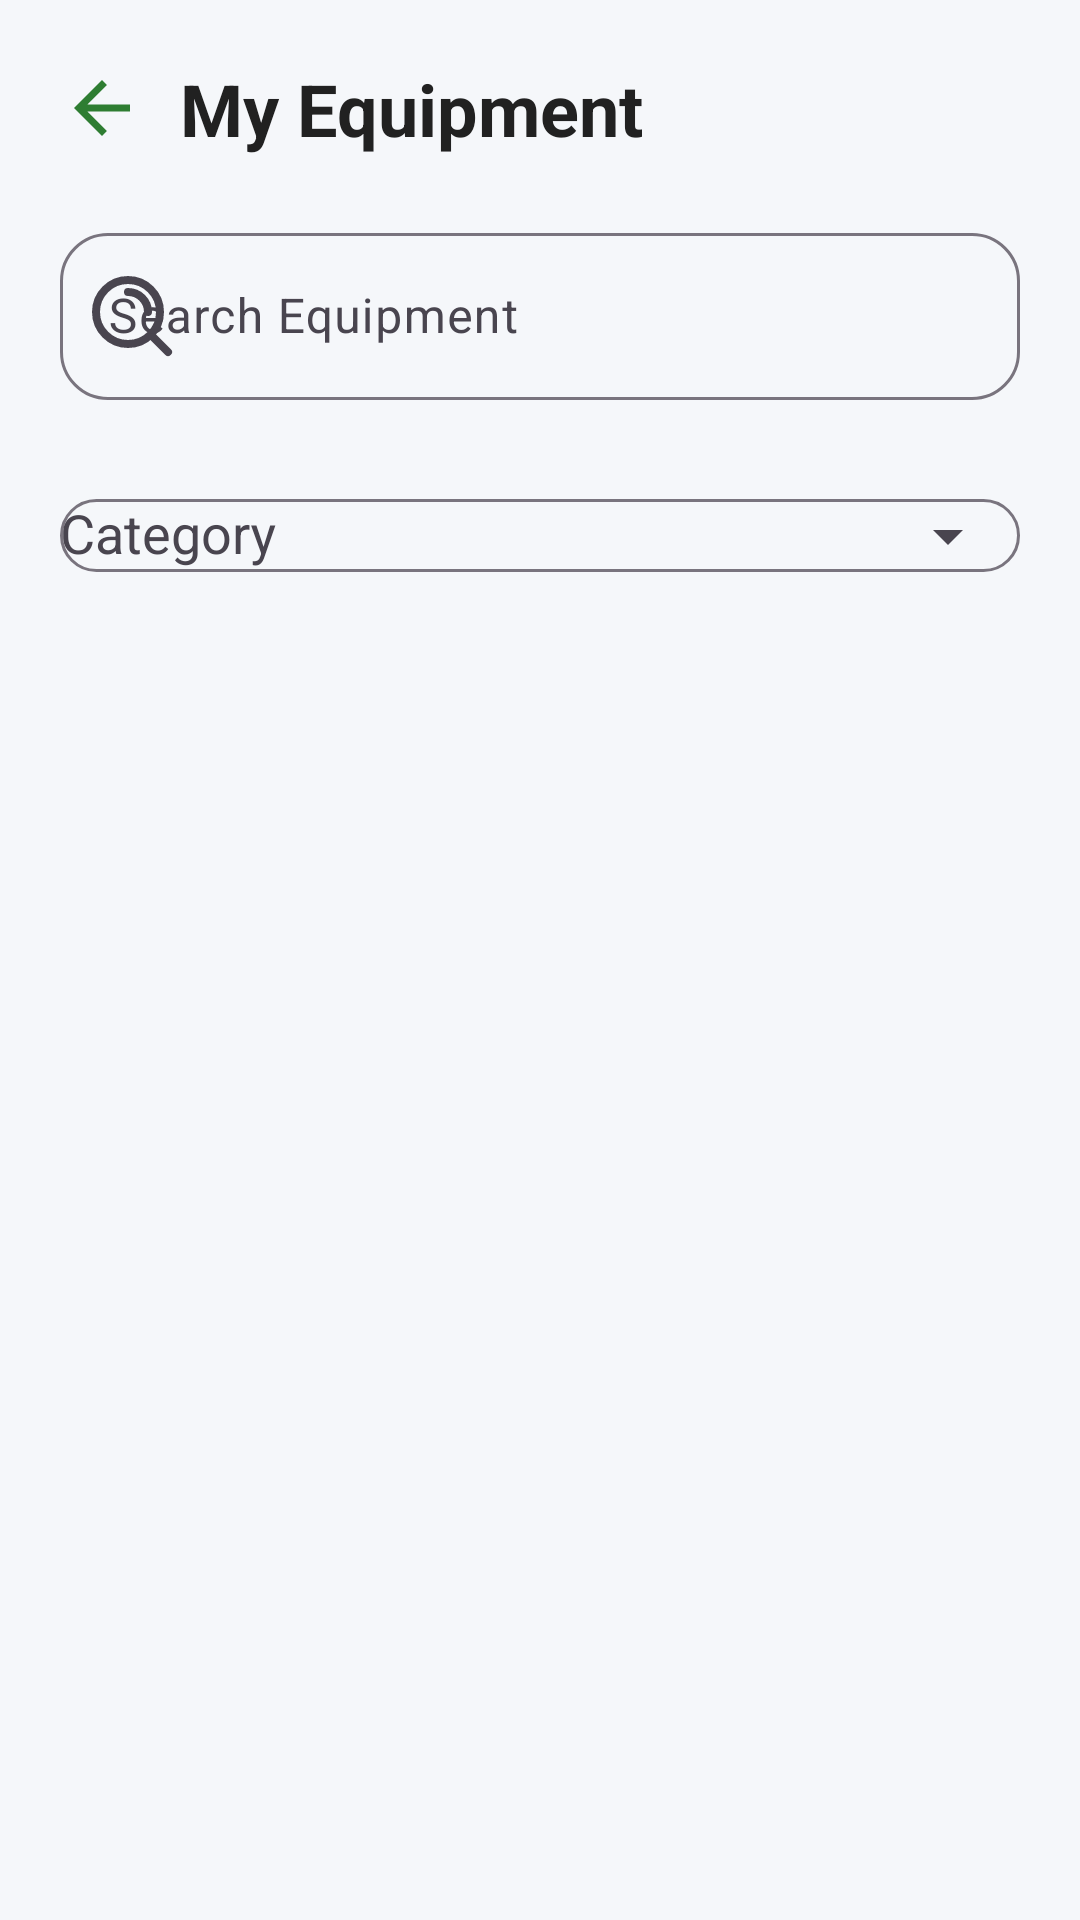

Icon bounding boxes for this 1080w x 1920h phone screenshot, format bbox(x1, y1, x2, y2):
arrow back: bbox(74, 80, 130, 136)
